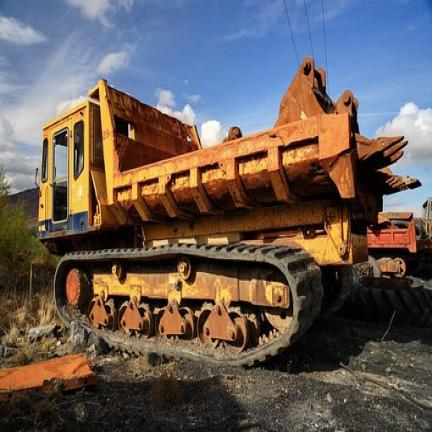karat: (39, 58, 420, 365)
